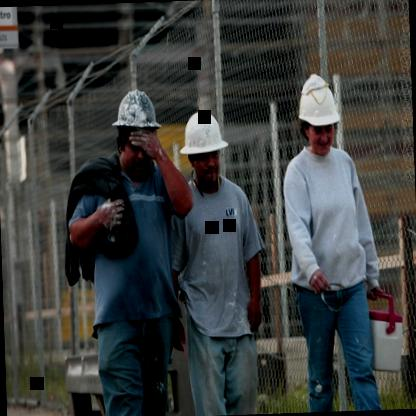helmet: (106, 77, 168, 183), (293, 62, 350, 170), (176, 101, 236, 202)
